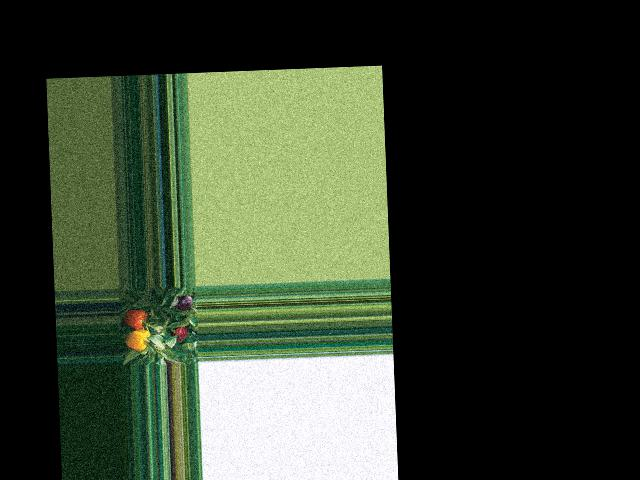bell_pepper: (125, 323, 151, 351)
